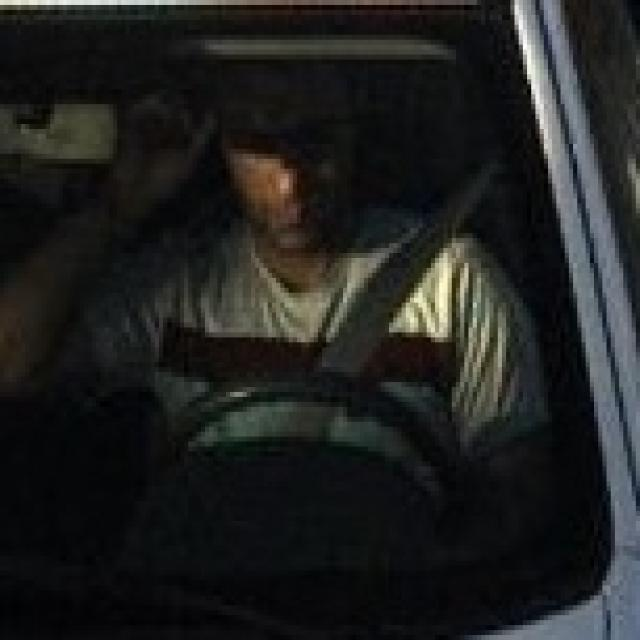seatbelt: (314, 148, 514, 372)
